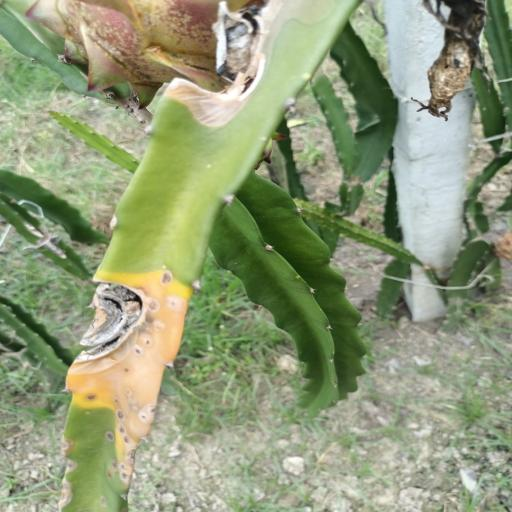stemcanker: (104, 457, 133, 485), (128, 336, 160, 358), (114, 406, 130, 449), (148, 298, 184, 312), (153, 266, 178, 286), (118, 364, 138, 384), (85, 390, 102, 410), (139, 401, 156, 421), (111, 396, 126, 412), (95, 494, 113, 507), (102, 431, 116, 446), (125, 386, 135, 398), (145, 326, 158, 335)
